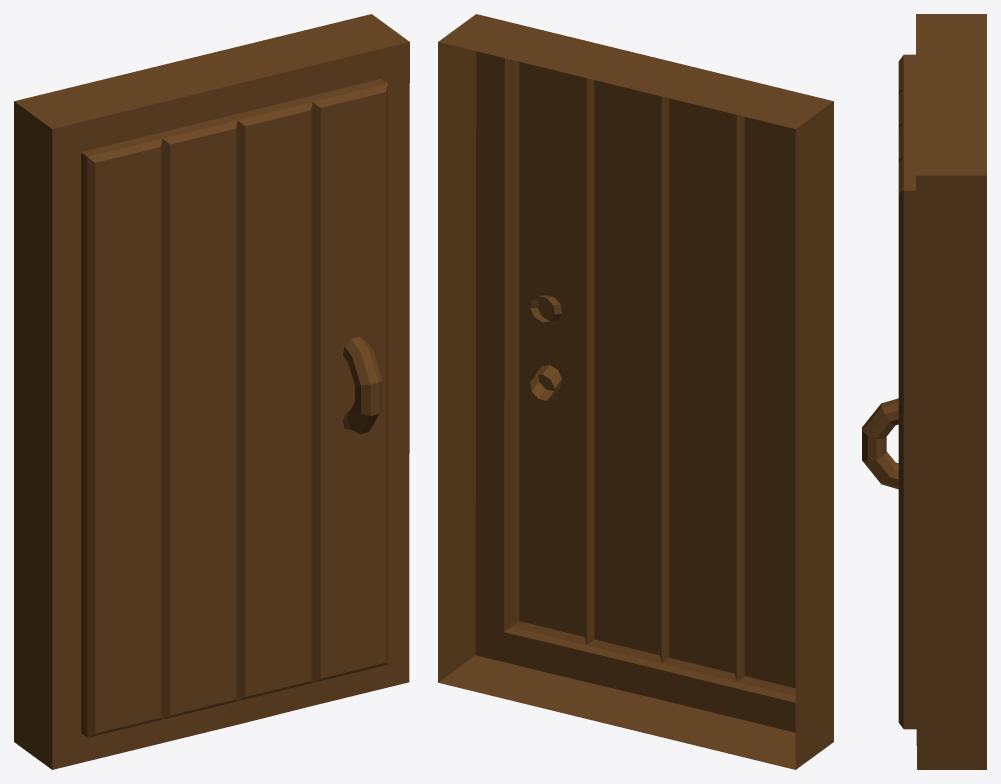
Rendered from PuertaInterior.fbx.
3 views of the same model, side by side, from view 1: azimuth 30°, elevation 25°; view 2: azimuth 150°, elevation 25°; view 3: azimuth 270°, elevation 25° (orthographic). The views are drawn at different scales.
Parts seen in each view (by area): view 1: Puerta_balcon; view 2: Puerta_balcon; view 3: Puerta_balcon.
Part boxes in pixels (box(x1,y1,x2,y2)): Puerta_balcon: box(14, 14, 409, 769); Puerta_balcon: box(438, 14, 833, 769); Puerta_balcon: box(862, 14, 986, 769).
Bounding box in the file's own units: 0.5006 × 0.8571 × 0.163.
